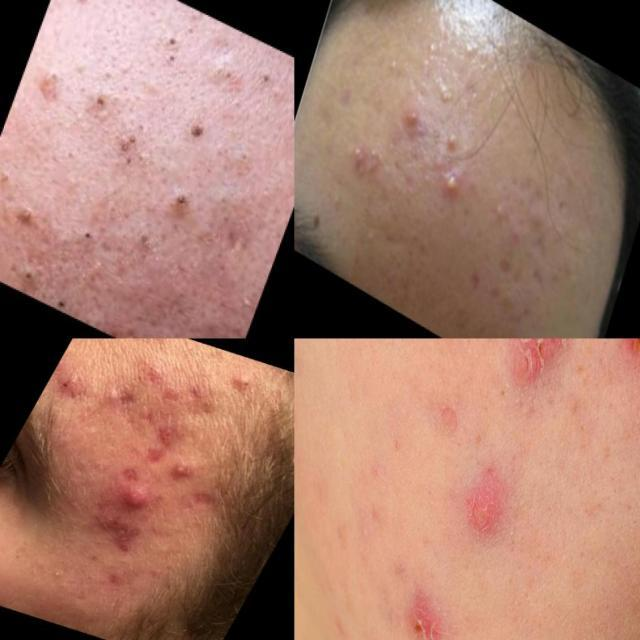Pimples: (456, 462, 516, 582), (507, 338, 576, 424), (124, 416, 196, 477), (61, 197, 110, 275), (156, 172, 214, 228), (146, 24, 197, 86), (76, 77, 122, 139), (108, 114, 152, 178), (427, 162, 471, 217), (108, 478, 160, 520), (492, 242, 526, 300), (390, 92, 432, 138), (45, 365, 92, 405), (346, 142, 376, 199), (458, 258, 489, 308), (132, 357, 178, 389), (521, 262, 553, 305), (12, 260, 50, 296), (131, 228, 167, 259), (228, 372, 264, 398), (152, 320, 202, 338), (164, 458, 198, 482), (66, 454, 95, 474), (81, 550, 107, 566), (78, 568, 97, 586)
